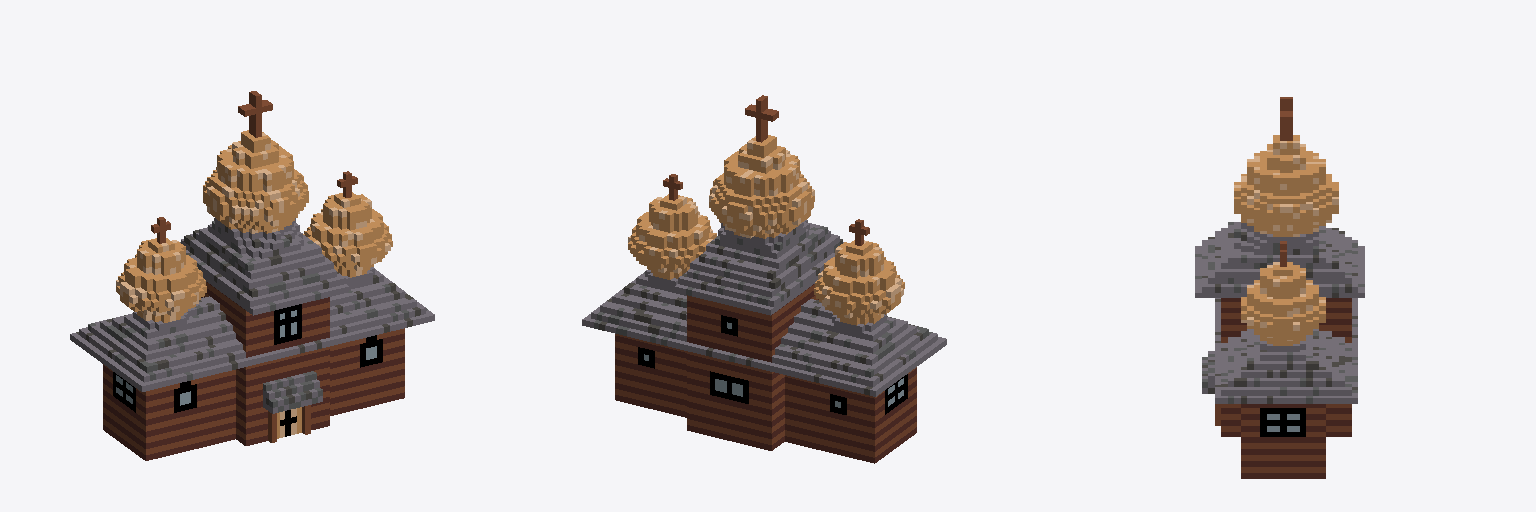
3 renders of one model, left to right at view 1: azimuth 30°, elevation 25°; view 2: azimuth 150°, elevation 25°; view 3: azimuth 270°, elevation 25°, orthographic.
Visible parts, largest first — view 1: object 1; view 2: object 1; view 3: object 1.
Part boxes in pixels (x1,y1,x2,y2): object 1: (70,91,434,460); object 1: (582,95,946,463); object 1: (1195,97,1364,478).
Size of the model in its own units: 5.2 by 5.4 by 2.6.
Materials: 1 (1 with a texture image).